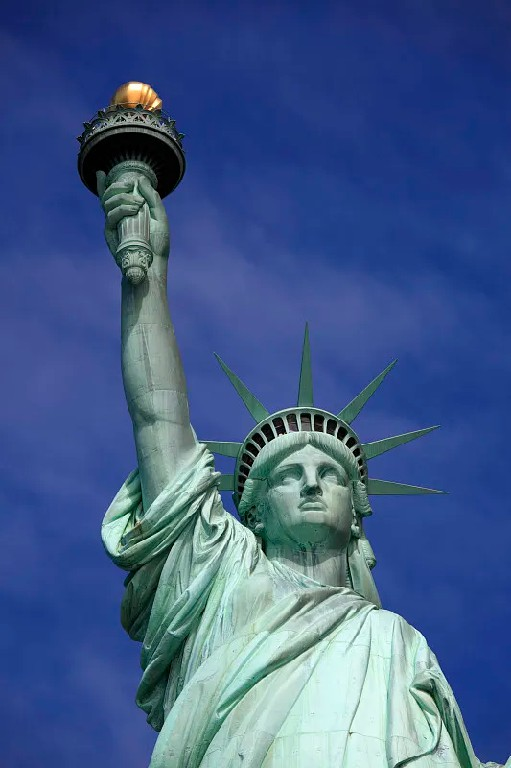SL: (78, 81, 511, 768)
